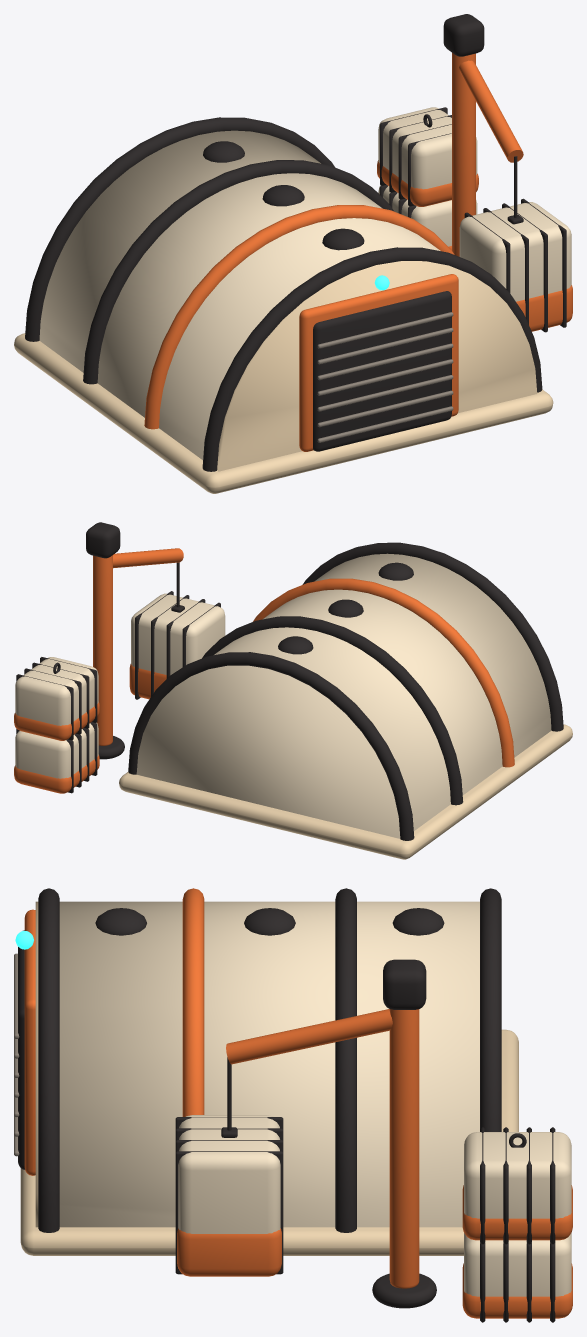
The model's file is warehouse-10.glb.
3 renders of one model, top to bottom at view 1: azimuth 30°, elevation 25°; view 2: azimuth 150°, elevation 25°; view 3: azimuth 270°, elevation 25°, orthographic. The views are drawn at different scales.
Visible parts, largest first — view 1: Cube.012, Cube.002, Cube, Cube.001, Cube.003; view 2: Cube.012, Cube.002, Cube.001, Cube; view 3: Cube.012, Cube.002, Cube.001, Cube, Cube.003.
Boxes of the visible parts, x1,y1,x2,y2 form: Cube.012: (39, 107, 571, 459); Cube.002: (25, 14, 566, 471); Cube: (14, 261, 553, 493); Cube.001: (144, 53, 572, 451); Cube.003: (317, 312, 453, 442); Cube.012: (15, 553, 551, 838); Cube.002: (16, 522, 563, 840); Cube.001: (14, 548, 514, 793); Cube: (119, 724, 572, 859); Cube.012: (59, 901, 571, 1296); Cube.002: (18, 888, 555, 1322); Cube.001: (24, 888, 572, 1318); Cube: (20, 901, 518, 1255); Cube.003: (14, 953, 19, 1156).
Bounding box in the file's own units: 2.41 × 1.36 × 2.07.
